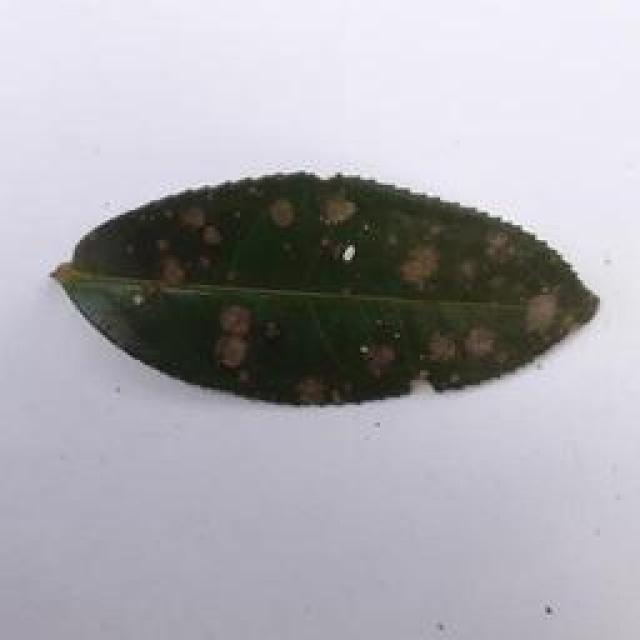Algal Leaf Spot: (52, 162, 603, 415)
